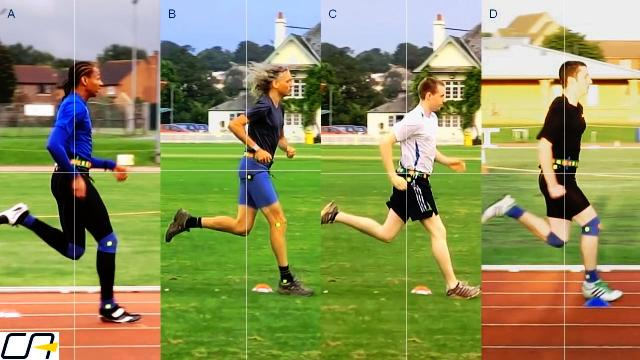berlari: (481, 48, 624, 306), (320, 76, 482, 302), (162, 60, 312, 304), (5, 54, 7, 58)
